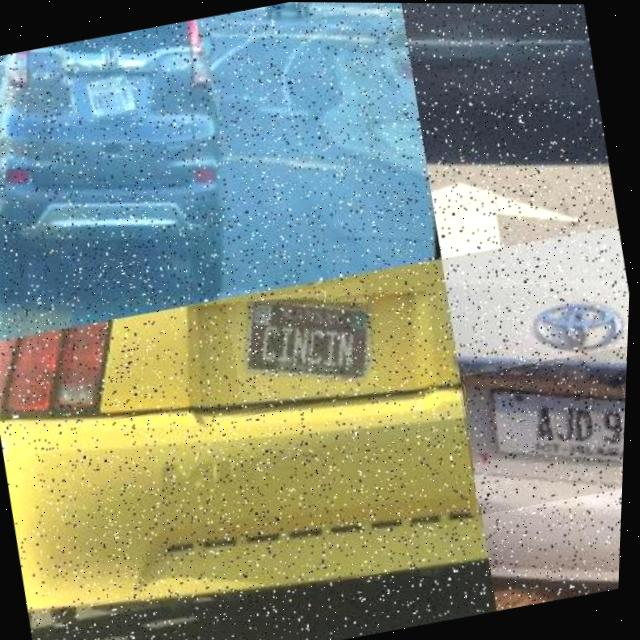LicensePlate: (456, 342, 630, 515), (241, 302, 370, 388), (71, 65, 143, 134), (274, 3, 285, 10)
